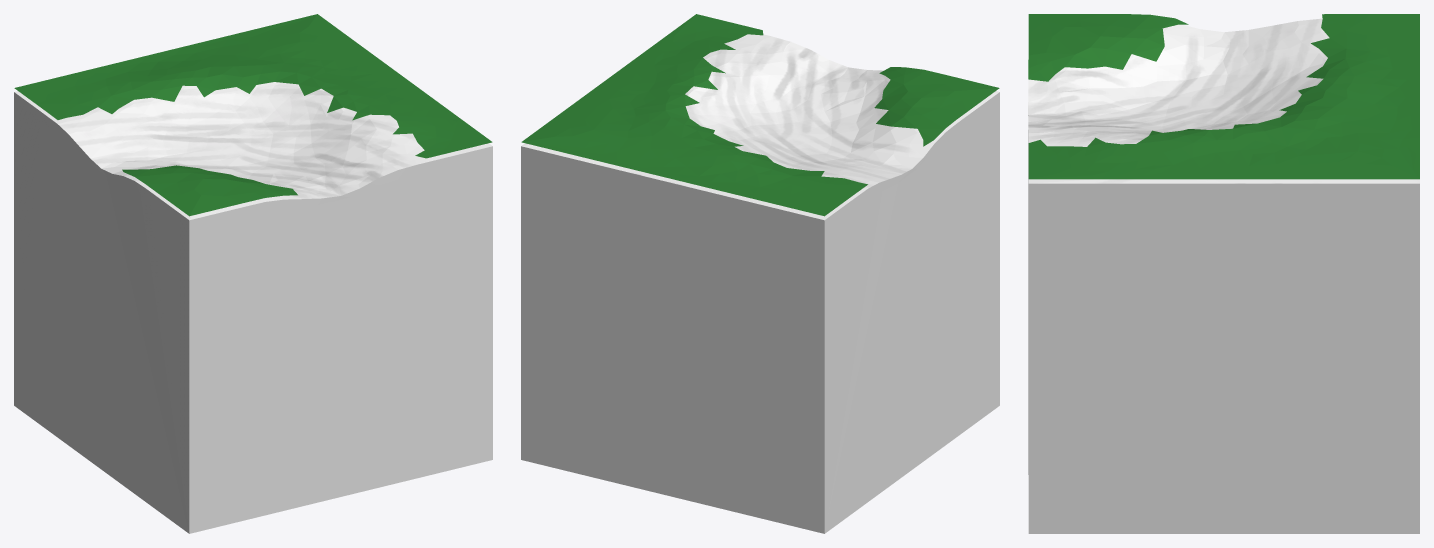
Rendered from PathCorner.glb.
3 views of the same model, side by side, from view 1: azimuth 30°, elevation 25°; view 2: azimuth 150°, elevation 25°; view 3: azimuth 270°, elevation 25° (orthographic). The views are drawn at different scales.
Visible parts, largest first — view 1: PathCorner, PathCornerGrass; view 2: PathCorner, PathCornerGrass; view 3: PathCorner, PathCornerGrass.
Part boxes in pixels (x1,y1,x2,y2): PathCorner: [14, 82, 492, 533]; PathCornerGrass: [14, 14, 492, 216]; PathCorner: [521, 34, 999, 533]; PathCornerGrass: [521, 14, 999, 216]; PathCorner: [1028, 18, 1419, 533]; PathCornerGrass: [1028, 14, 1419, 179].
Size of the model in its own units: 2 by 2.04 by 2.
Materials: 2 (1 with a texture image).
